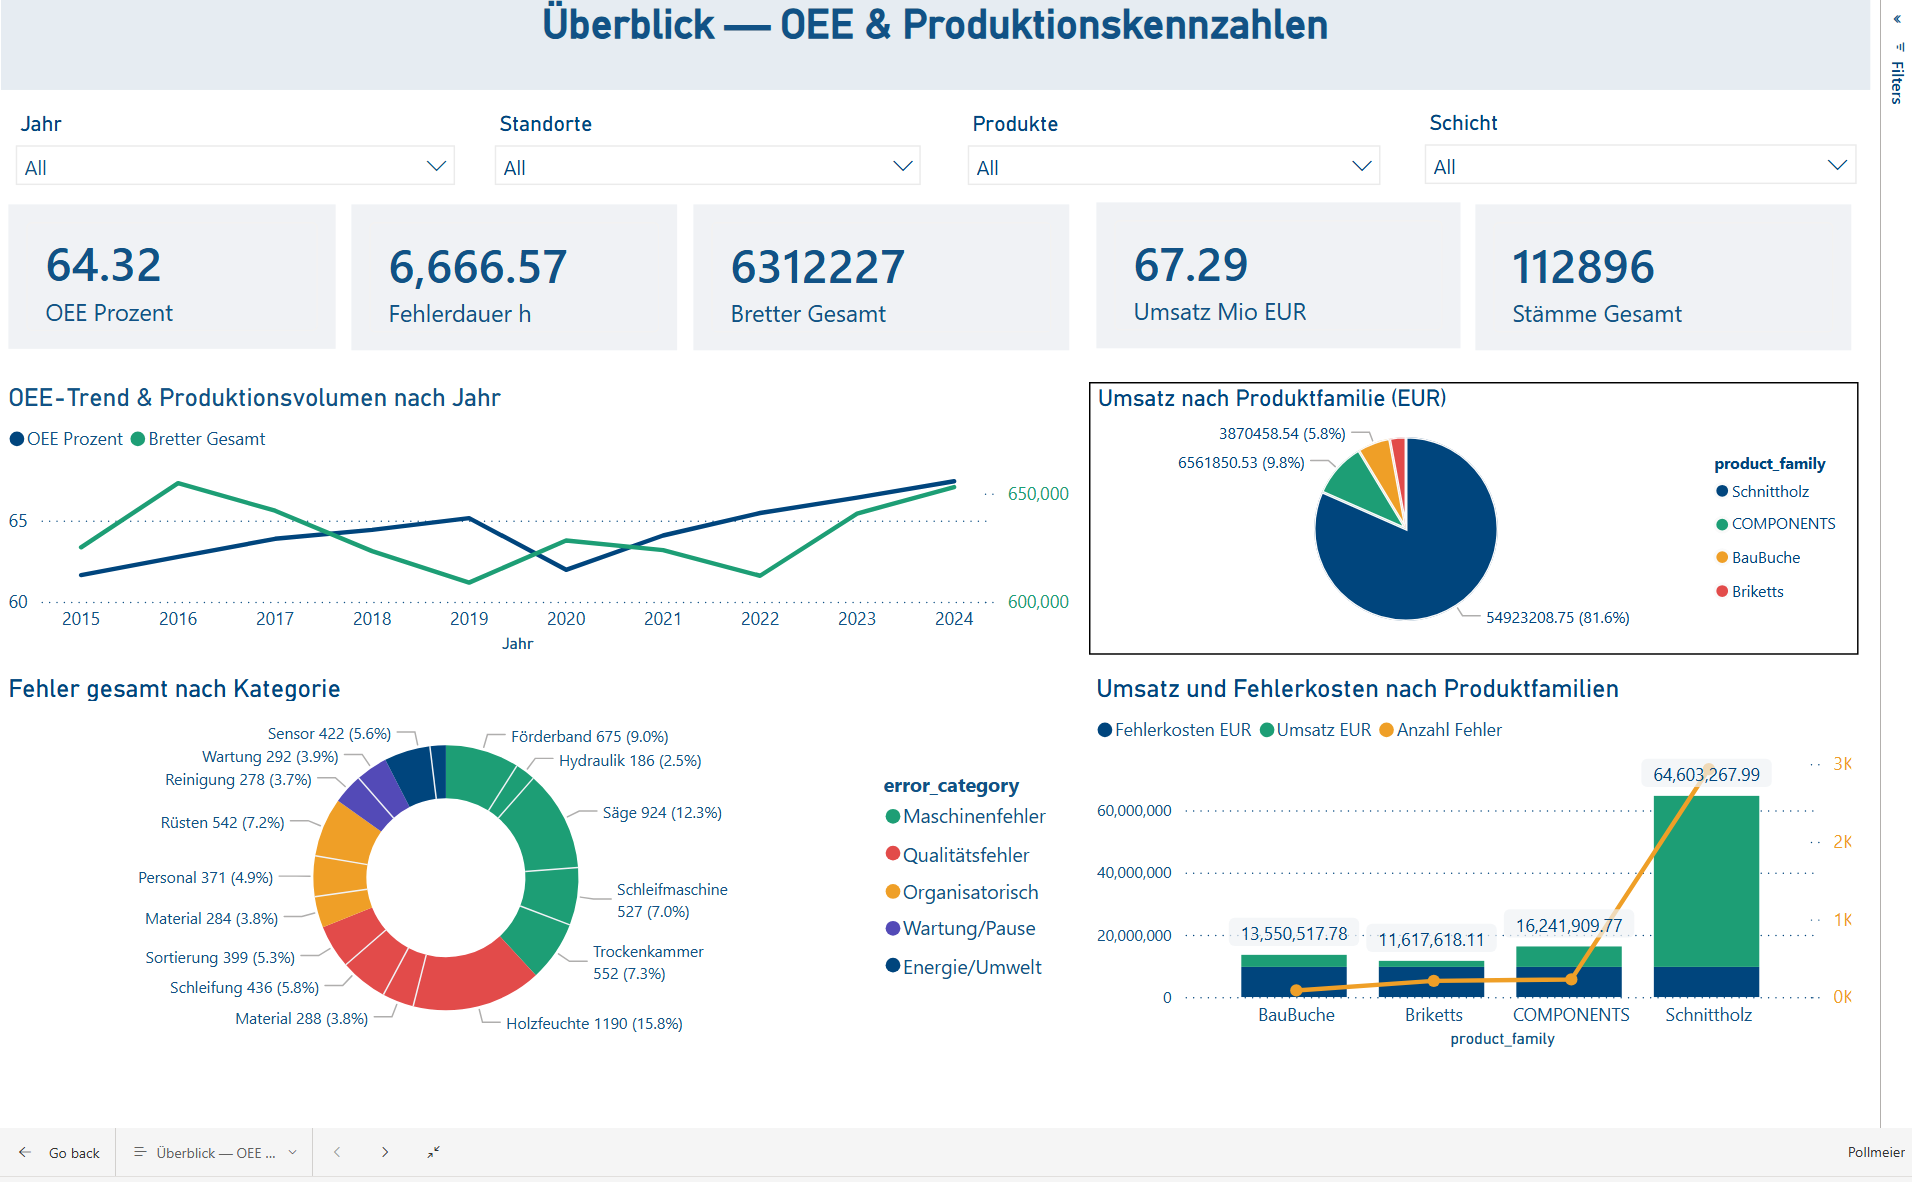

What the dashboard file says about the page in this screenshot:
{"tool":"powerbi","page":{"name":"Überblick — OEE & Produktionskennzahlen","canvas":[1280,720],"ordinal":0},"visuals":[{"type":"pieChart","title":"Umsatz nach Produktfamilie (EUR)","fields":{"Category":["DIM_Product.product_family"],"Y":["_Measures.Umsatz EUR"]},"box":[743.3,258.8,522.1,185.4],"z":0,"group":"g1"},{"type":"slicer","fields":{"Values":["DIM_Shift.shift_name"]},"box":[960.9,69.9,312.5,62.7],"z":2000},{"type":"textbox","title":"Überblick — OEE & Produktionskennzahlen","box":[5.3,0,1268,61.2],"z":3000},{"type":"lineStackedColumnComboChart","title":"Umsatz und Fehlerkosten nach Produktfamilien","fields":{"Category":["DIM_Product.product_family"],"Y":["_Measures.Fehlerkosten EUR","_Measures.Umsatz EUR"],"Y2":["_Measures.Anzahl FAIL"]},"box":[743.3,456.7,522.1,258.8],"z":4000},{"type":"donutChart","title":"Fehler gesamt nach Kategorie","fields":{"Category":["DIM_ErrorType.error_category"],"Y":["Sum(FACT_Errors.anzahl_fehler)"],"Series":["DIM_ErrorType.error_subcategory"]},"box":[5.4,456.7,723.6,258.8],"z":5000},{"type":"group","id":"g1","title":"Gruppe 1","box":[743.3,258.8,522.1,185.4],"z":6000},{"type":"slicer","fields":{"Values":["DIM_Site.site_name"]},"box":[330.4,70.5,309.5,63],"z":8000},{"type":"slicer","fields":{"Values":["DIM_Date.year"]},"box":[5.2,70.6,318.1,62.8],"z":9000},{"type":"cardVisual","fields":{"Data":["_Measures.OEE Prozent"]},"box":[5.4,133.4,232.8,108.4],"z":10000},{"type":"lineChart","title":"OEE-Trend & Produktionsvolumen nach Jahr","fields":{"Category":["DIM_Date.date.Variation.Datumshierarchie.Jahr"],"Y":["_Measures.OEE Prozent"],"Y2":["_Measures.Bretter Gesamt"]},"box":[5.4,258.8,729.9,188.1],"z":11000},{"type":"slicer","fields":{"Values":["DIM_Product.product_family"]},"box":[651,70.7,300,62.7],"z":12000},{"type":"cardVisual","fields":{"Data":["_Measures.Bretter Gesamt"]},"box":[470.1,133.4,265.1,109.3],"z":13000},{"type":"cardVisual","fields":{"Data":["_Measures.Fehlerdauer h"]},"box":[238.2,133.4,231.9,109.3],"z":14000},{"type":"cardVisual","fields":{"Data":["_Measures.Umsatz Mio EUR"]},"box":[743.3,132.5,257,109.3],"z":15000},{"type":"cardVisual","fields":{"Data":["_Measures.Stämme Gesamt"]},"box":[1000.3,133.4,265.1,109.3],"z":16000}]}

Visuals, with their boxes on the page's 1280x720 design canvas (x1, y1, x2, y2). These are canvas units, not pixel positions in the 1912x1182 screenshot, which may show the page scaled, cropped or inside an application window:
"Umsatz nach Produktfamilie (EUR)" pieChart: (743,259,1265,444)
slicer - DIM_Shift.shift_name: (961,70,1273,133)
"Überblick — OEE & Produktionskennzahlen" textbox: (5,0,1273,61)
"Umsatz und Fehlerkosten nach Produktfamilien" lineStackedColumnComboChart: (743,457,1265,716)
"Fehler gesamt nach Kategorie" donutChart: (5,457,729,716)
"Gruppe 1" group: (743,259,1265,444)
slicer - DIM_Site.site_name: (330,70,640,134)
slicer - DIM_Date.year: (5,71,323,133)
cardVisual - _Measures.OEE Prozent: (5,133,238,242)
"OEE-Trend & Produktionsvolumen nach Jahr" lineChart: (5,259,735,447)
slicer - DIM_Product.product_family: (651,71,951,133)
cardVisual - _Measures.Bretter Gesamt: (470,133,735,243)
cardVisual - _Measures.Fehlerdauer h: (238,133,470,243)
cardVisual - _Measures.Umsatz Mio EUR: (743,132,1000,242)
cardVisual - _Measures.Stämme Gesamt: (1000,133,1265,243)
